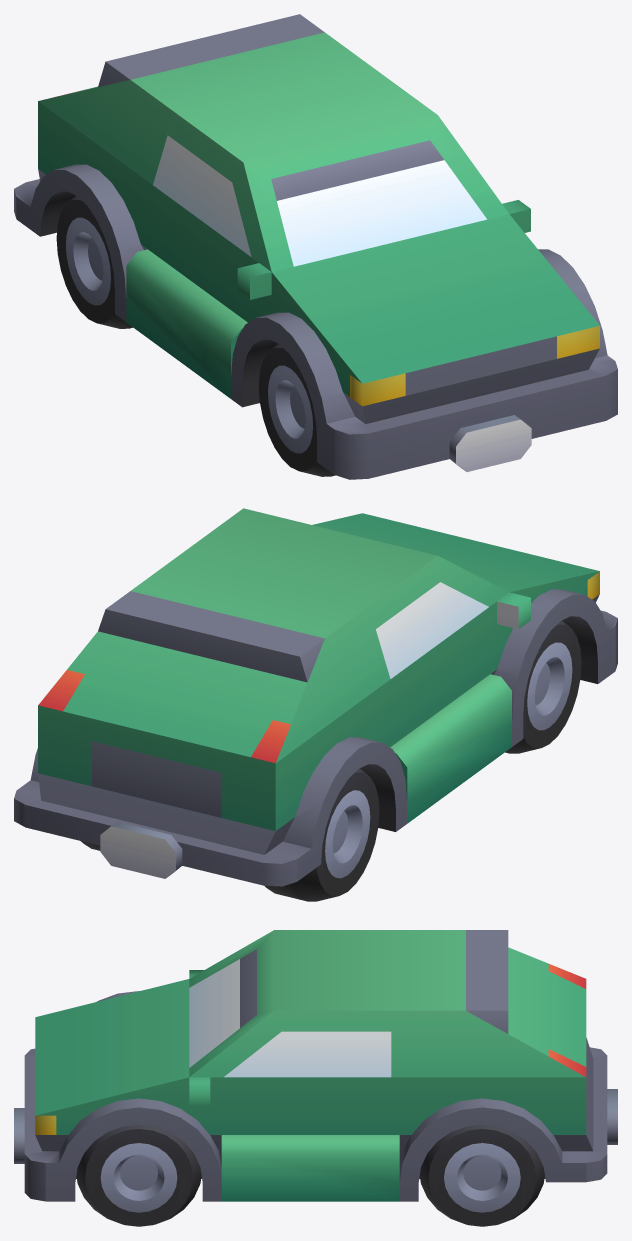
File: k-car-hatchback-sports.glb
3 views of the same model, one above another, from view 1: azimuth 30°, elevation 25°; view 2: azimuth 150°, elevation 25°; view 3: azimuth 270°, elevation 25° (orthographic). The views are drawn at different scales.
Visible parts, largest first — view 1: body, wheel-back-right, wheel-front-right; view 2: body, wheel-back-right, wheel-front-right; view 3: body, wheel-back-left, wheel-front-left.
Part boxes in pixels (x1,y1,x2,y2): body: (14,14,617,479); wheel-back-right: (56,196,132,328); wheel-front-right: (258,343,335,476); body: (14,508,617,886); wheel-back-right: (264,768,379,901); wheel-front-right: (505,620,581,753); body: (14,930,617,1201); wheel-back-left: (419,1124,544,1226); wheel-front-left: (76,1124,201,1226).
Size of the model in its own units: 1.3 by 1.1 by 2.85.
Materials: 1 (1 with a texture image).
